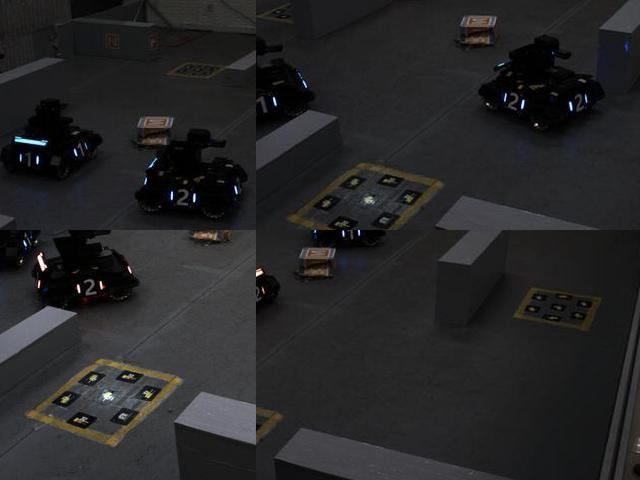armor: (72, 276, 109, 302), (165, 184, 199, 210), (499, 88, 528, 117), (16, 147, 41, 173), (68, 138, 93, 163), (256, 91, 280, 117), (566, 93, 592, 115), (335, 230, 365, 243), (256, 281, 269, 306)
